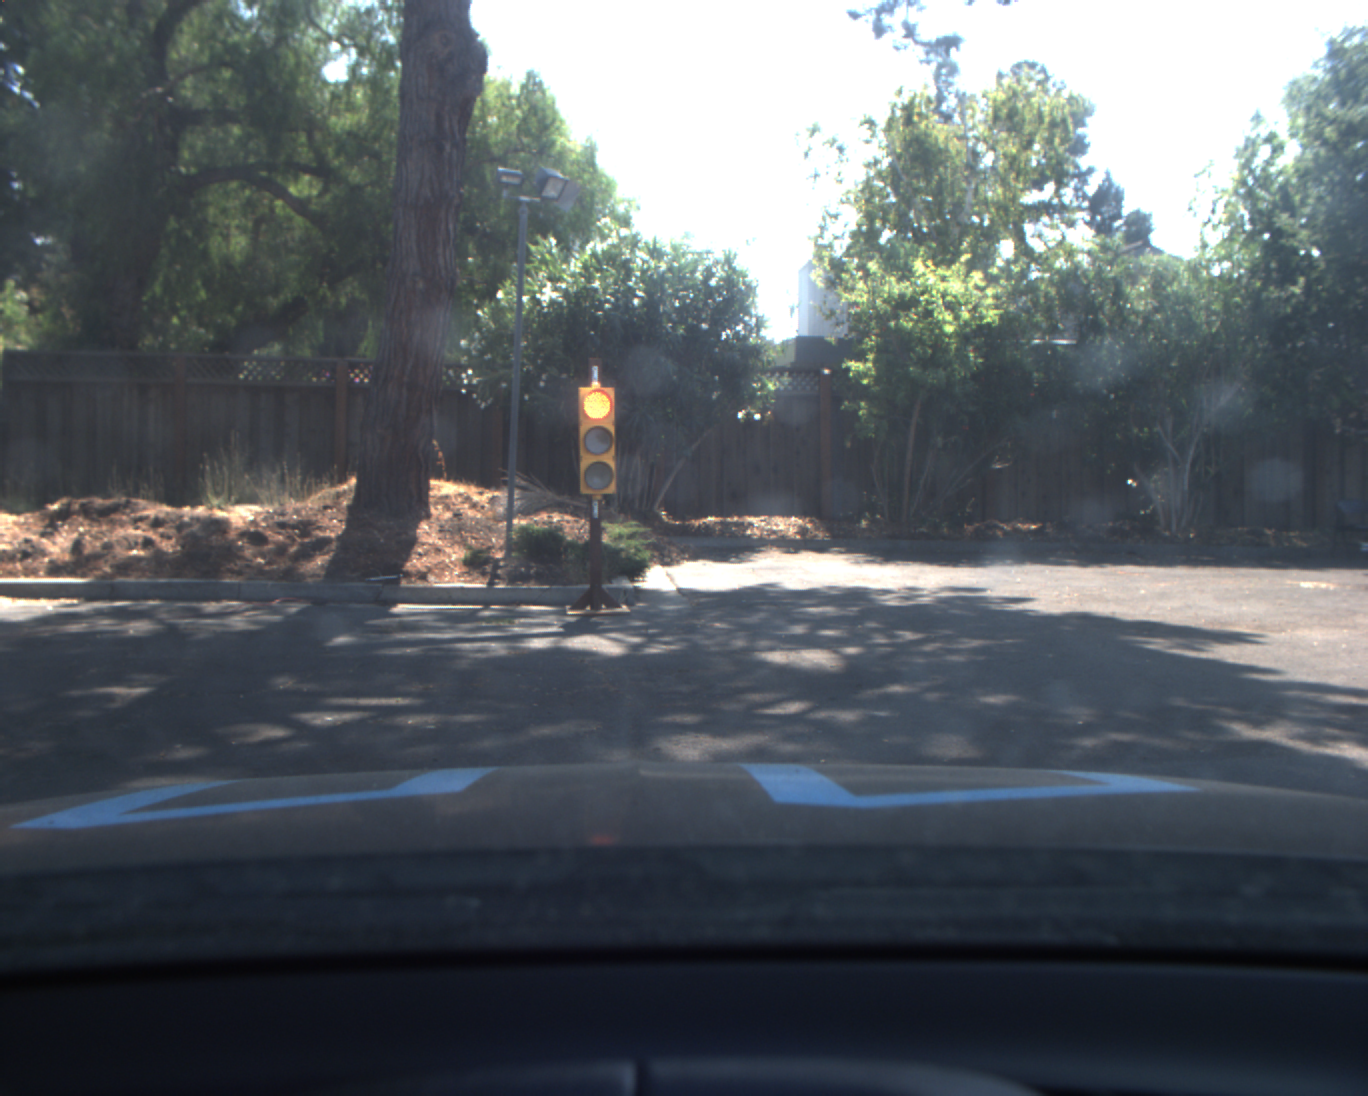red: (574, 382, 622, 497)
